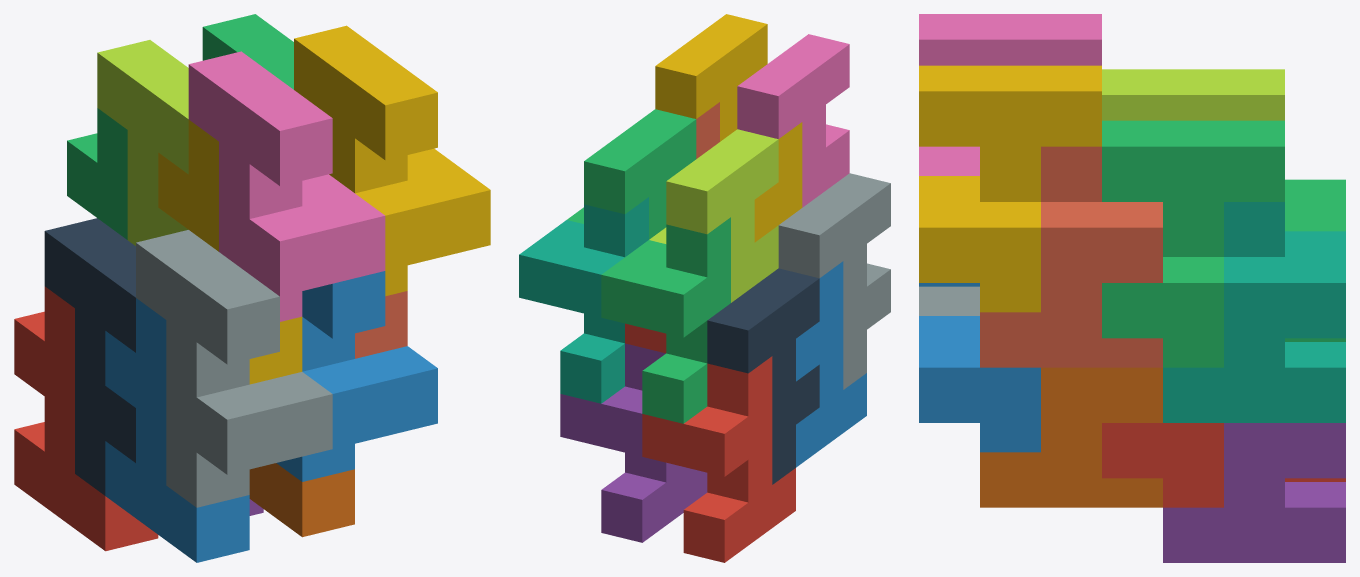
Rendered from tiling.obj.
The picture shows the model from 3 angles, left to right: view 1: azimuth 30°, elevation 25°; view 2: azimuth 150°, elevation 25°; view 3: azimuth 270°, elevation 25°; orthographic projection. The views are drawn at different scales.
Parts seen in each view (by area): view 1: copy_2_domain_2, copy_2_domain_4, copy_2_domain_8, copy_2_domain_6, copy_2_domain_1, copy_1_domain_2, copy_1_domain_1, copy_2_domain_3, copy_1_domain_4, copy_1_domain_6, copy_1_domain_3, copy_2_domain_7 (+1 smaller); view 2: copy_1_domain_1, copy_1_domain_3, copy_1_domain_7, copy_2_domain_2, copy_2_domain_1, copy_1_domain_5, copy_2_domain_4, copy_2_domain_3, copy_2_domain_7, copy_2_domain_8, copy_1_domain_2, copy_1_domain_4 (+2 smaller); view 3: copy_2_domain_8, copy_2_domain_7, copy_1_domain_7, copy_1_domain_8, copy_1_domain_5, copy_1_domain_6, copy_2_domain_6, copy_2_domain_4, copy_2_domain_3, copy_2_domain_5, copy_1_domain_3, copy_2_domain_2.
Part boxes in pixels (box(x1,y1,x2,y2)): copy_2_domain_2: box(136, 230, 332, 507); copy_2_domain_4: box(188, 51, 385, 321); copy_2_domain_8: box(294, 25, 490, 296); copy_2_domain_6: box(276, 271, 437, 481); copy_2_domain_1: box(44, 218, 135, 495); copy_1_domain_2: box(105, 298, 249, 562); copy_1_domain_1: box(14, 286, 158, 551); copy_2_domain_3: box(97, 40, 188, 245); copy_1_domain_4: box(158, 120, 302, 384); copy_1_domain_6: box(249, 463, 354, 537); copy_1_domain_3: box(67, 108, 127, 239); copy_2_domain_7: box(202, 14, 293, 89); copy_1_domain_1: box(642, 356, 795, 562); copy_1_domain_3: box(601, 217, 730, 423); copy_1_domain_7: box(519, 197, 648, 403); copy_2_domain_2: box(778, 173, 890, 389); copy_2_domain_1: box(707, 268, 819, 484); copy_1_domain_5: box(560, 343, 707, 542); copy_2_domain_4: box(737, 34, 849, 207); copy_2_domain_3: box(649, 129, 778, 302); copy_2_domain_7: box(567, 109, 696, 239); copy_2_domain_8: box(655, 14, 767, 141); copy_1_domain_2: box(796, 261, 866, 467); copy_1_domain_4: box(754, 122, 802, 242); copy_2_domain_8: box(919, 65, 1101, 312); copy_2_domain_7: box(1102, 120, 1284, 367); copy_1_domain_7: box(1163, 202, 1345, 422); copy_1_domain_8: box(980, 146, 1162, 367); copy_1_domain_5: box(1163, 423, 1345, 562); copy_1_domain_6: box(980, 367, 1162, 507); copy_2_domain_6: box(919, 283, 1040, 452); copy_2_domain_4: box(919, 14, 1101, 175); copy_2_domain_3: box(1102, 69, 1284, 120); copy_2_domain_5: box(1102, 423, 1223, 507); copy_1_domain_3: box(1285, 179, 1345, 341); copy_2_domain_2: box(919, 286, 979, 315).
Size of the model in its own units: 5 by 9 by 7.
